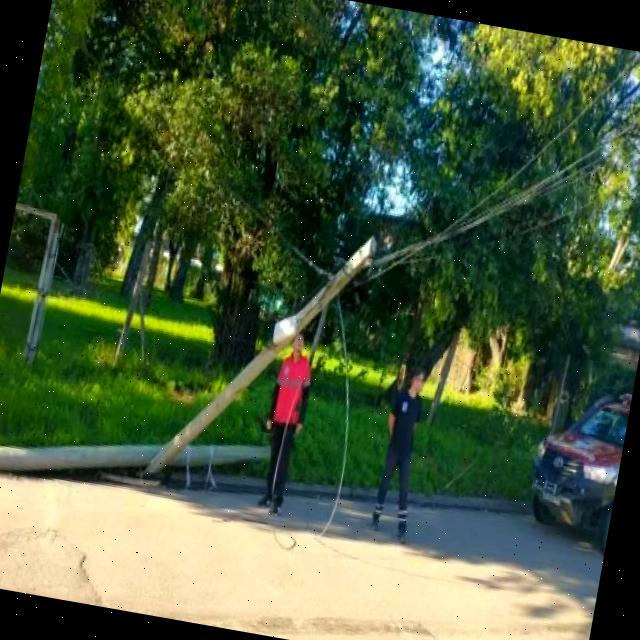Broken Pole: (140, 237, 375, 476), (143, 236, 376, 475), (0, 443, 270, 469)
